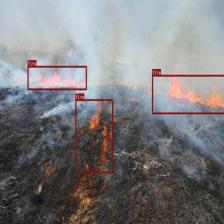fire: (151, 74, 224, 113), (75, 99, 113, 172), (27, 66, 87, 90)
